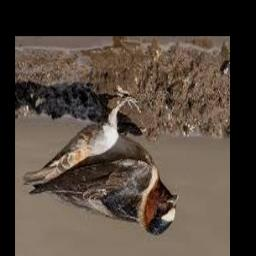Swallow: (24, 98, 179, 235)
